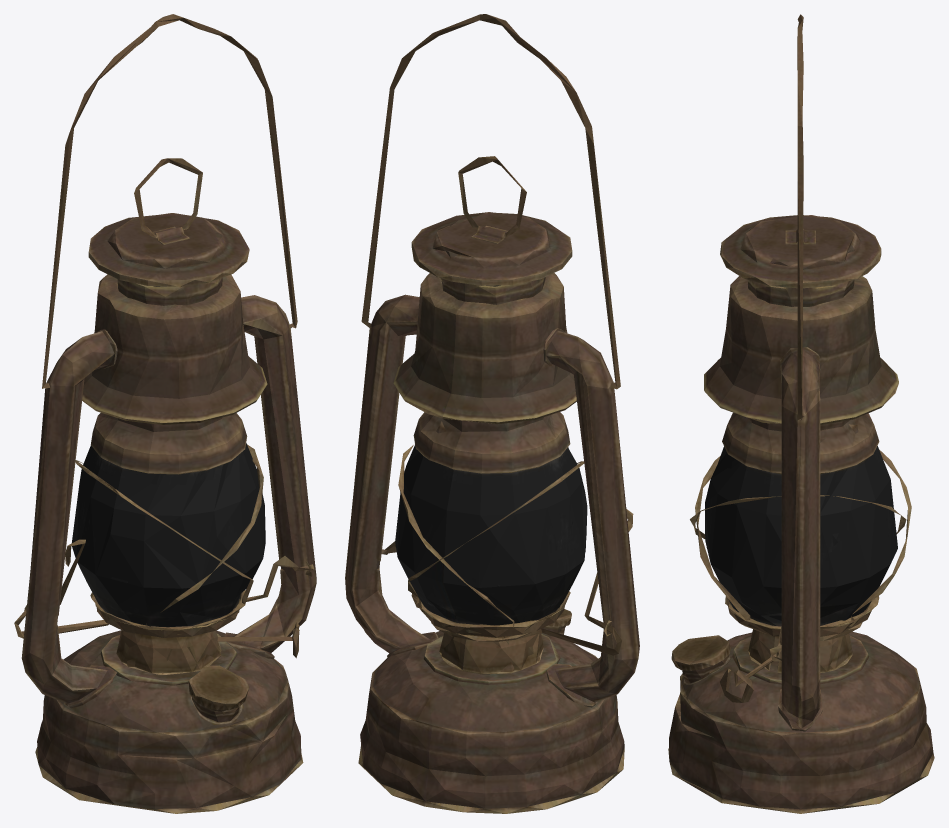
The model's file is Lantern_01.glb.
3 renders of one model, left to right at view 1: azimuth 30°, elevation 25°; view 2: azimuth 150°, elevation 25°; view 3: azimuth 270°, elevation 25°, orthographic.
Visible parts, largest first — view 1: Lantern_01, Lantern_01_glass; view 2: Lantern_01, Lantern_01_glass; view 3: Lantern_01, Lantern_01_glass.
Boxes of the visible parts, x1=… form: Lantern_01: x1=14, y1=14, x2=316, y2=813; Lantern_01_glass: x1=72, y1=443, x2=265, y2=627; Lantern_01: x1=345, y1=14, x2=639, y2=813; Lantern_01_glass: x1=395, y1=445, x2=587, y2=625; Lantern_01: x1=668, y1=14, x2=934, y2=813; Lantern_01_glass: x1=705, y1=446, x2=897, y2=626.
Bounding box in the file's own units: 0.1219 × 0.2938 × 0.0958.
Materials: 2 (2 with a texture image).
